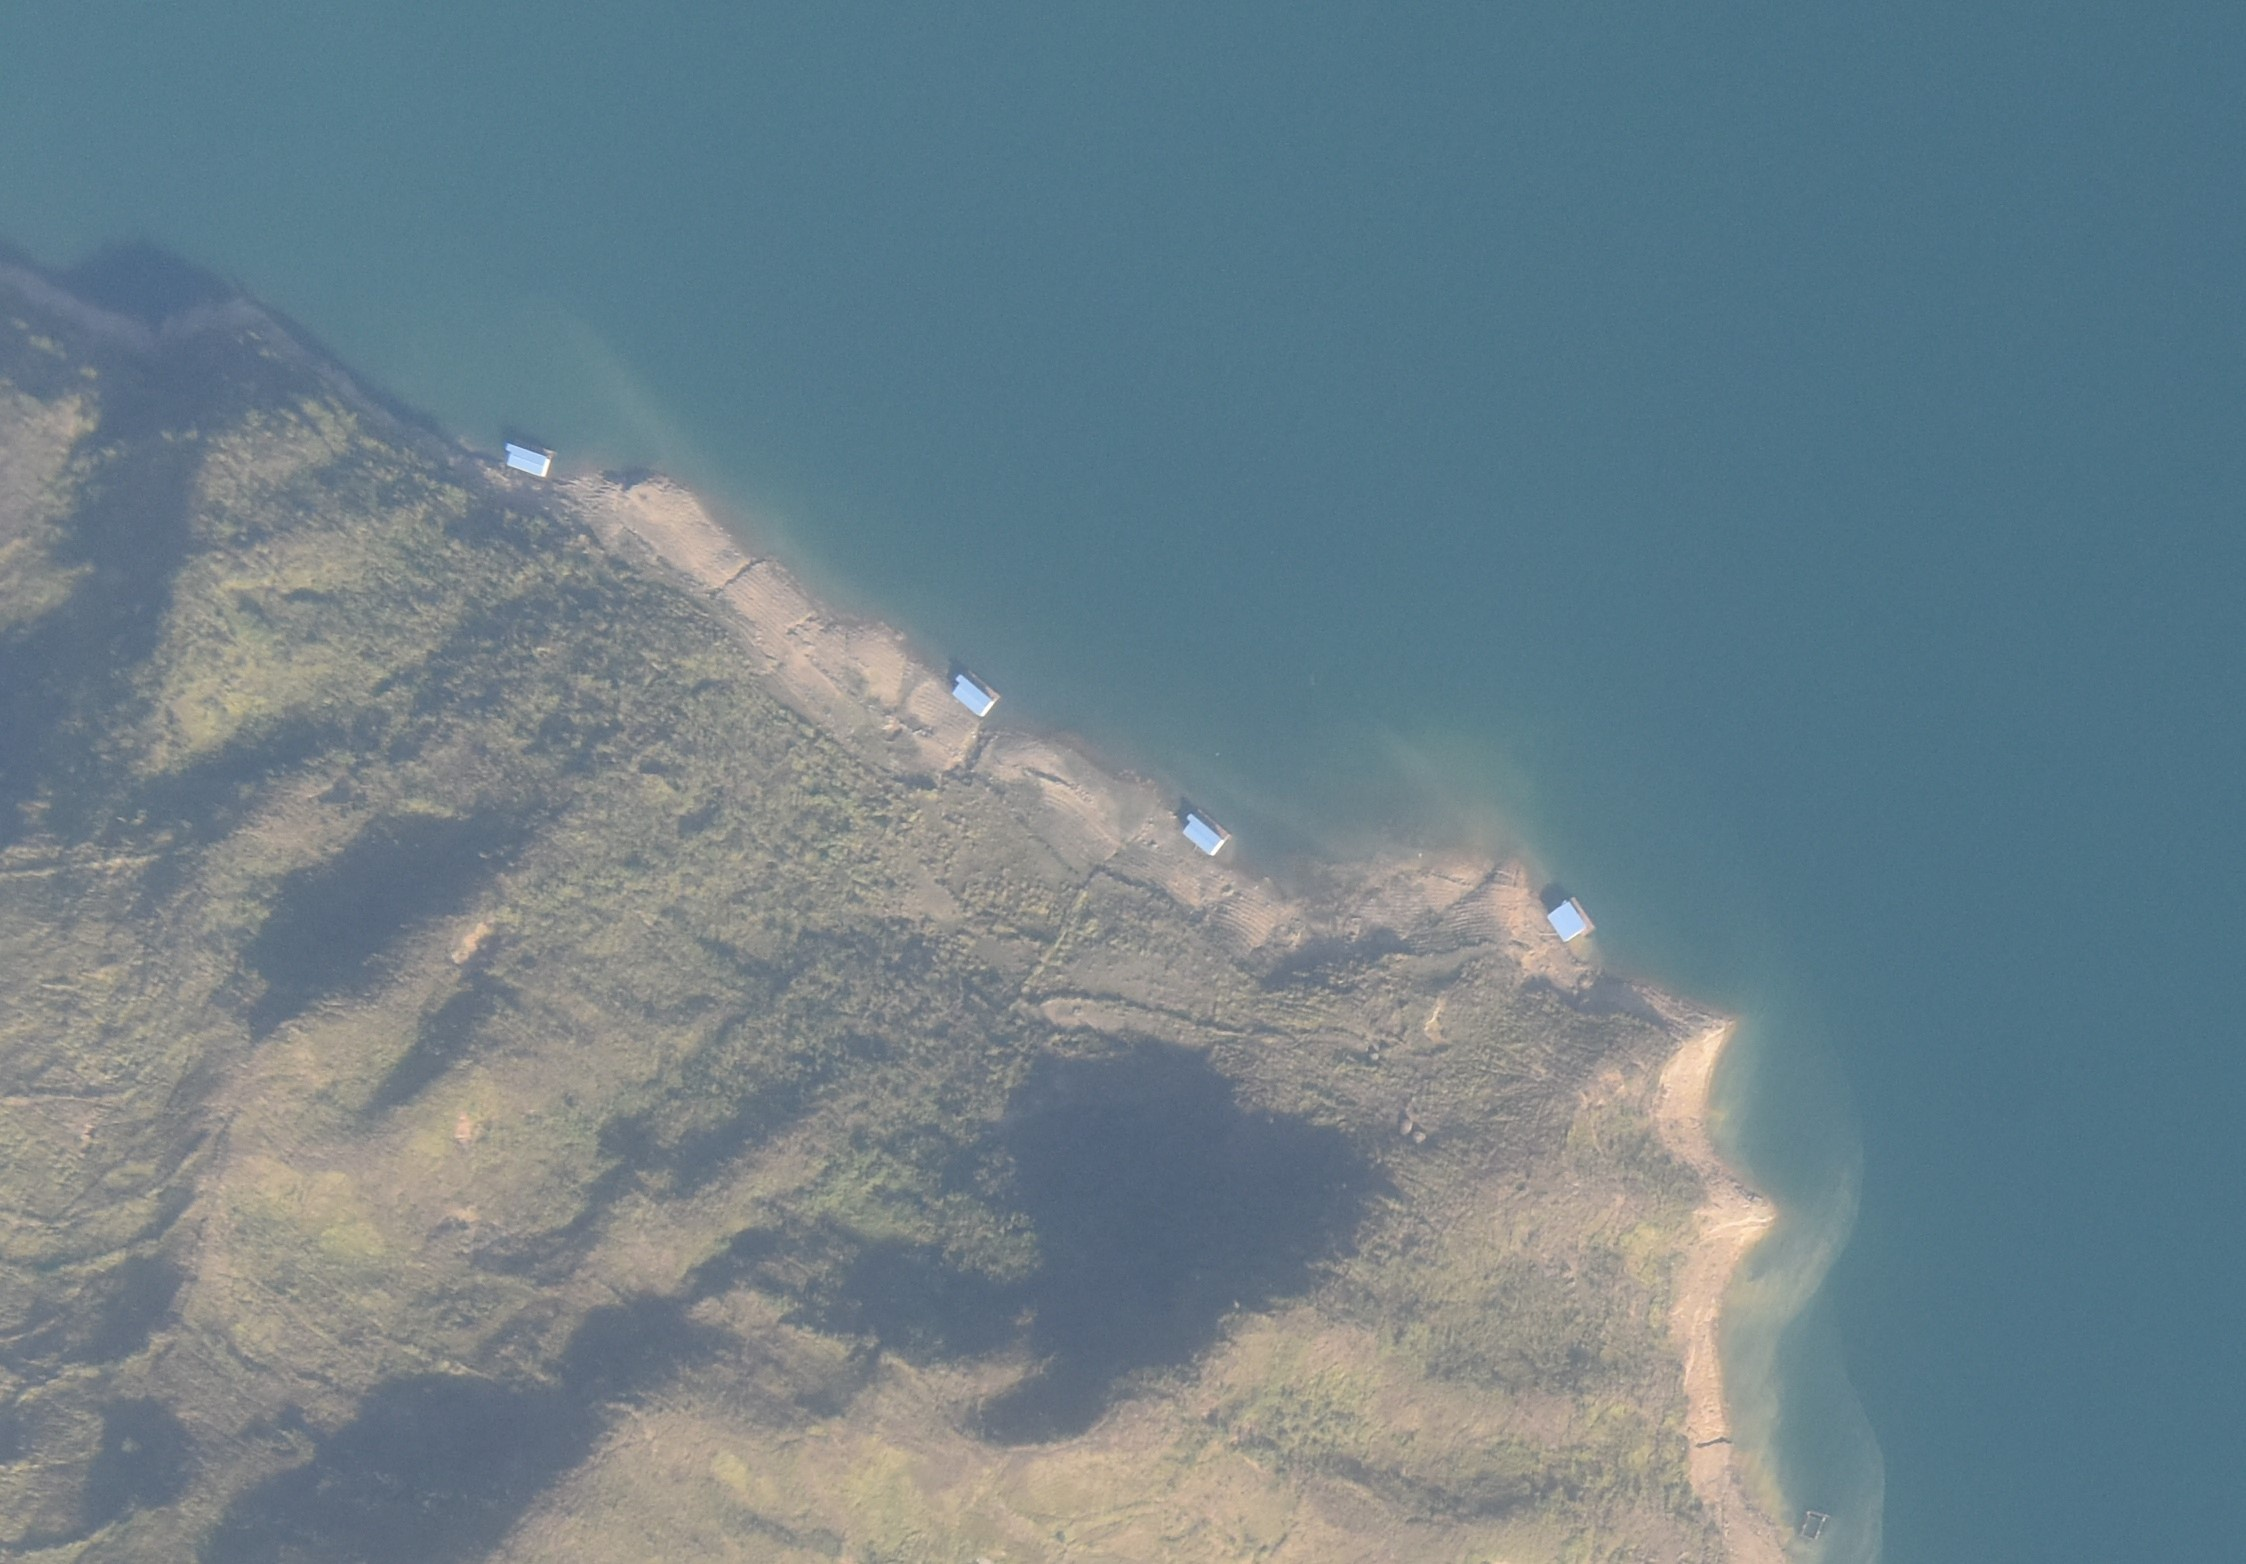prefabricated-house: (948, 670, 993, 719), (1183, 810, 1223, 859), (1547, 898, 1584, 941), (504, 444, 550, 476)
